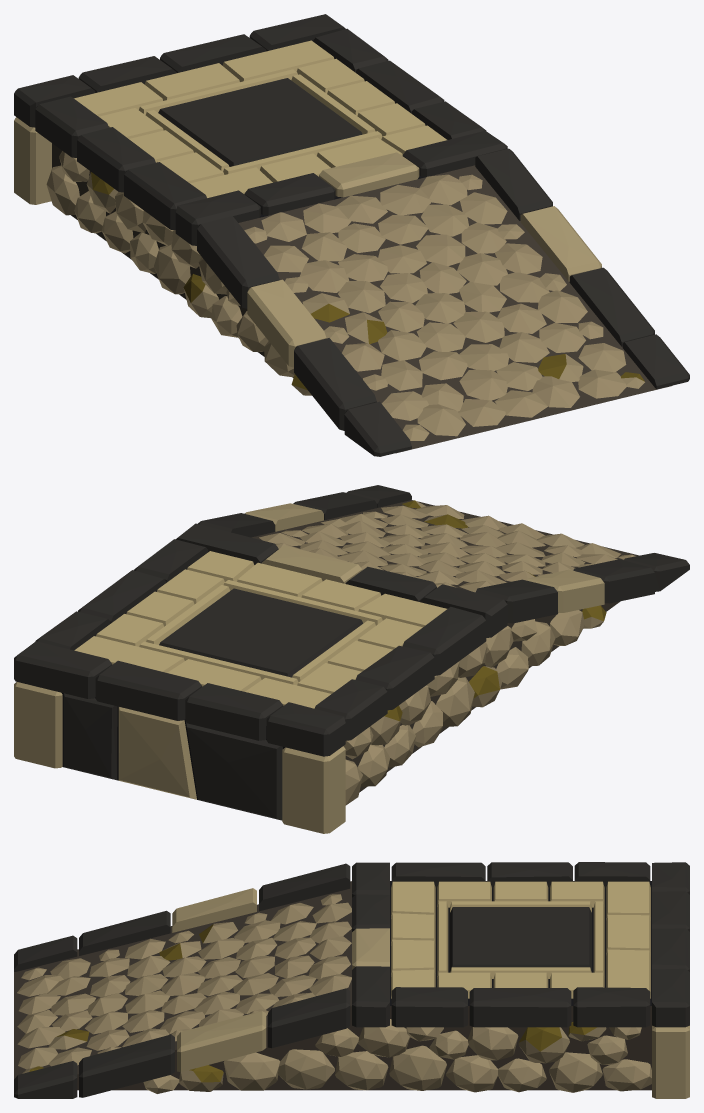
The model's file is single-ahu-262107.glb.
The picture shows the model from 3 angles, top to bottom: view 1: azimuth 30°, elevation 25°; view 2: azimuth 150°, elevation 25°; view 3: azimuth 270°, elevation 25°; orthographic projection. The views are drawn at different scales.
Parts seen in each view (by area): view 1: ahu-stonework; view 2: ahu-stonework; view 3: ahu-stonework.
Boxes of the visible parts, <box> form: ahu-stonework: <box>14,14,689,456</box>; ahu-stonework: <box>14,485,689,833</box>; ahu-stonework: <box>14,862,689,1098</box>.
Bounding box in the file's own units: 4 × 1.27 × 8.
